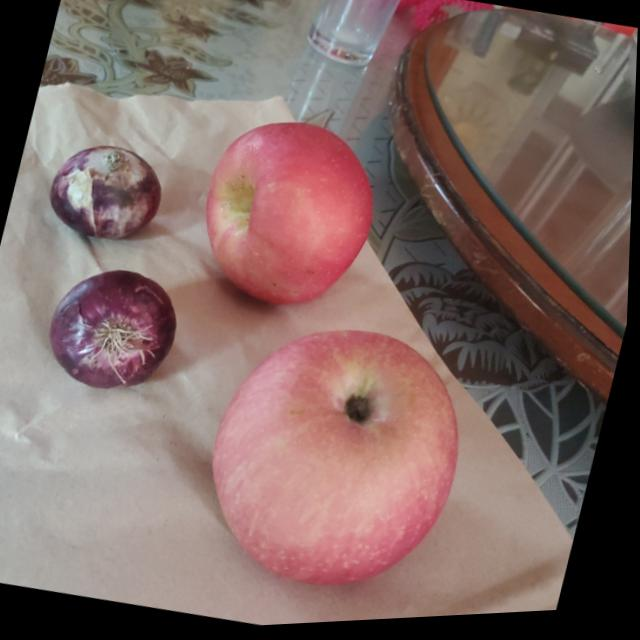apple: (190, 303, 490, 611), (189, 111, 398, 329)
onion: (41, 255, 192, 401), (39, 131, 172, 256)
